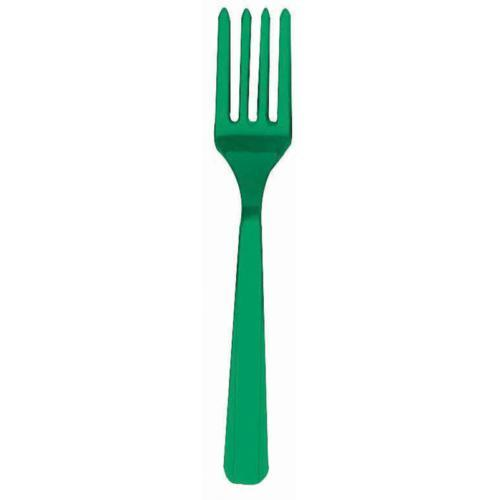Fork: (214, 6, 292, 485)
